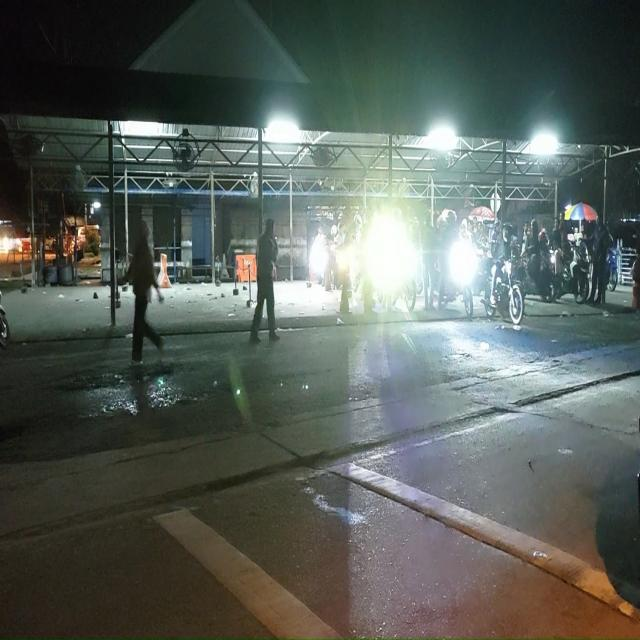Golongan II: (364, 215, 424, 311), (438, 239, 478, 319), (481, 258, 524, 325), (551, 243, 590, 305), (512, 250, 555, 303), (605, 247, 618, 292), (0, 292, 10, 349)
